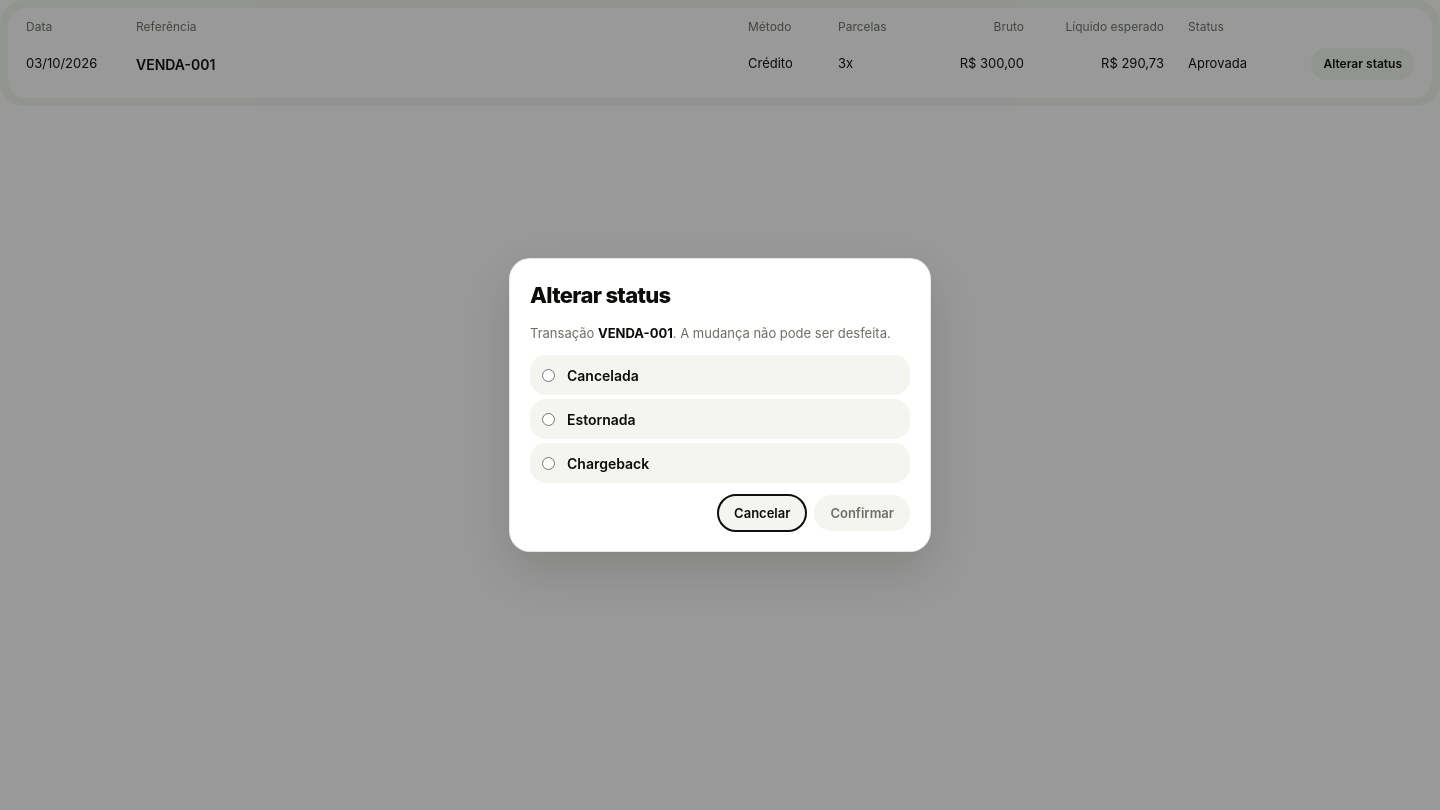
Test case: StatusDialog › 409 de período travado mantém o diálogo aberto com a mensagem e recarrega a lista (TXN-09)
Check: the table named "Transações" shows "Aprovada", box [1188,55,1247,71]
Click the radio button labelled "Cancelada" at point(548, 375), box [542,369,555,382]
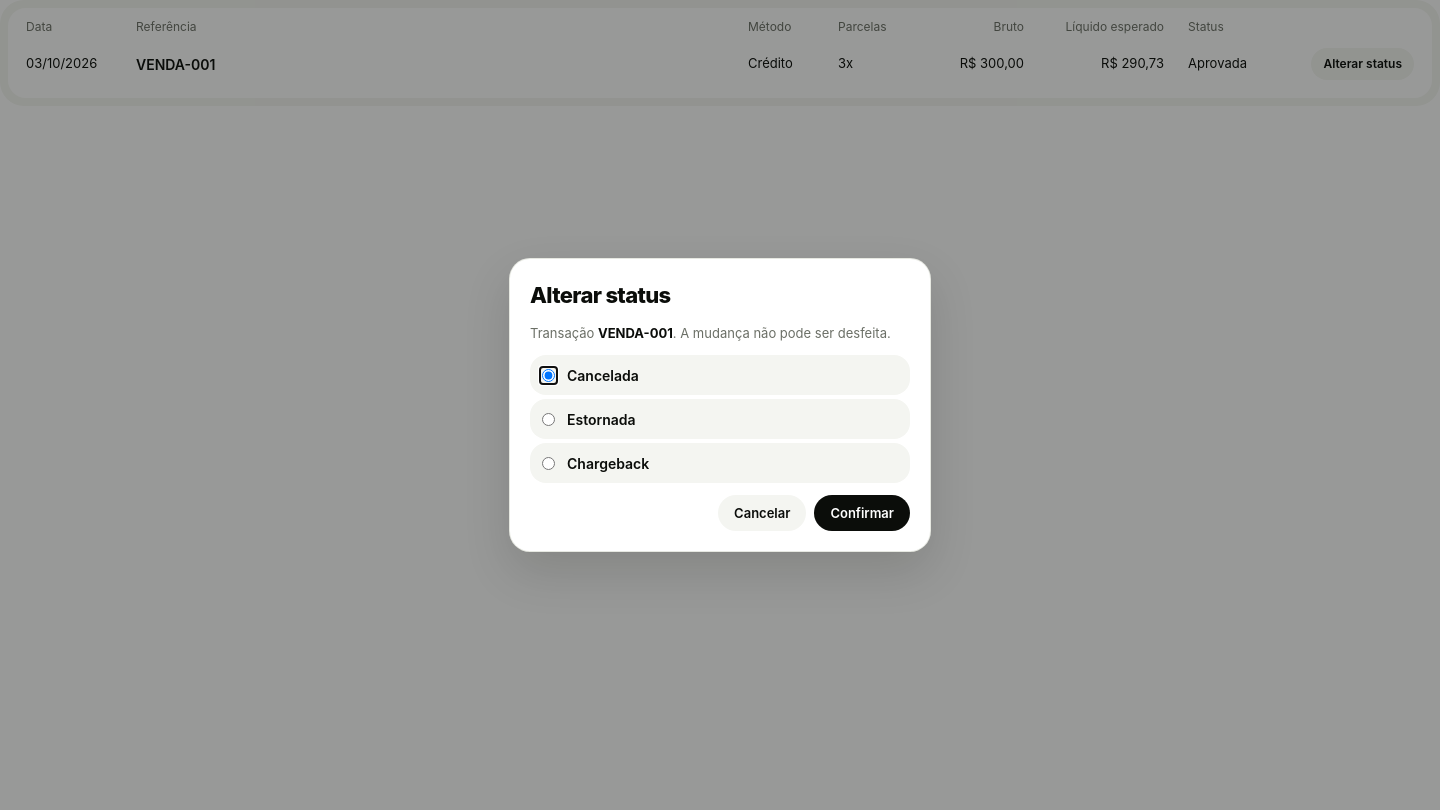
Click the button "Confirmar" at point(862, 513), box [814,495,910,531]
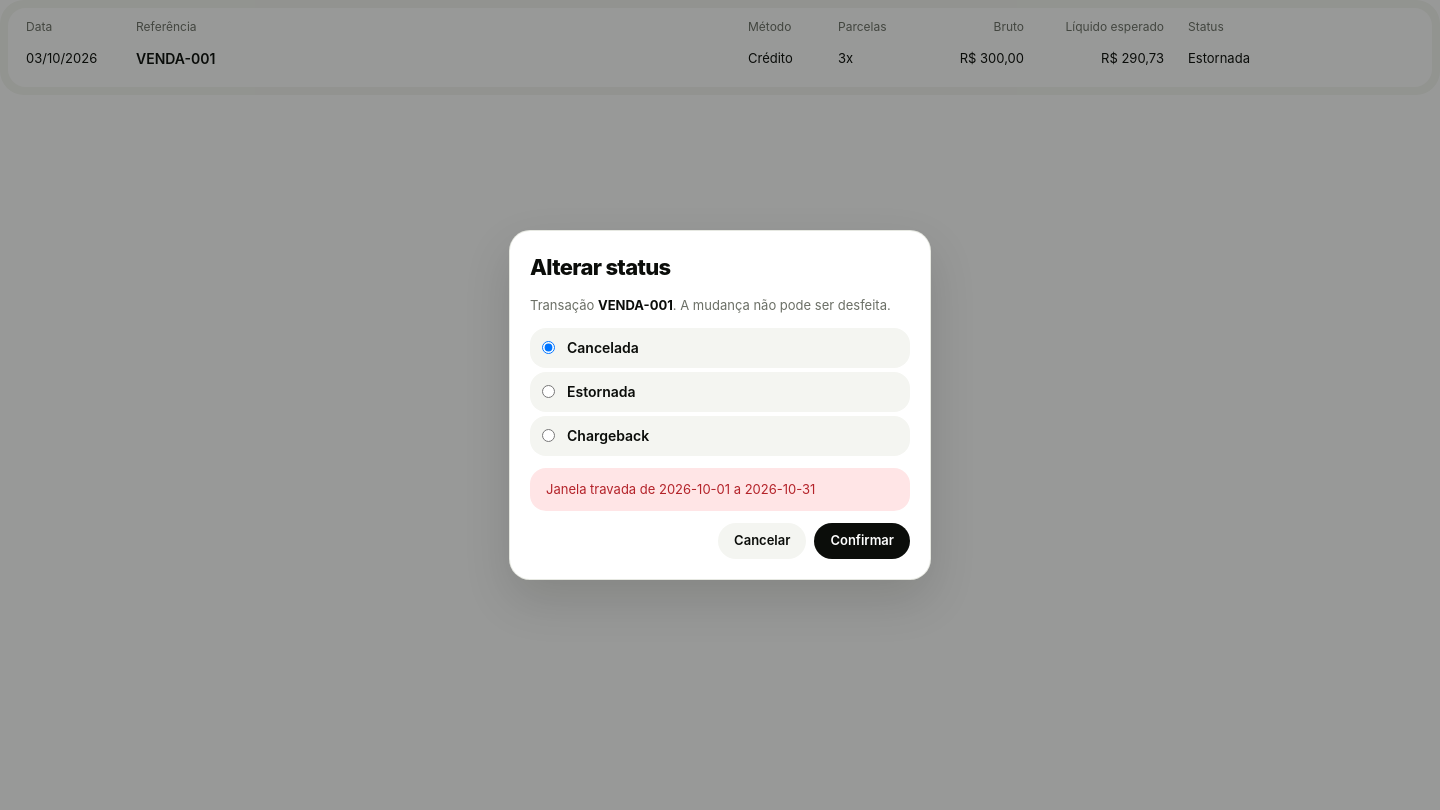
Check: the radio button labelled "Cancelada" is checked, box [542,341,555,354]
Check: the message reads "Janela travada de 2026-10-01 a 2026-10-31", box [546,480,815,496]
Check: the table named "Transações" shows "Estornada", box [1188,50,1250,66]
